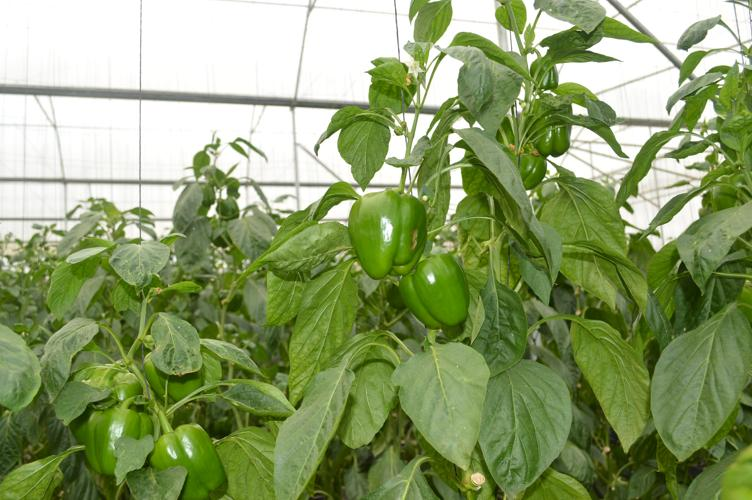BellPepper: (347, 191, 423, 279), (152, 422, 226, 494), (76, 412, 157, 476), (400, 254, 470, 326), (137, 351, 201, 402), (75, 368, 140, 404), (504, 139, 551, 188), (529, 101, 572, 154)
